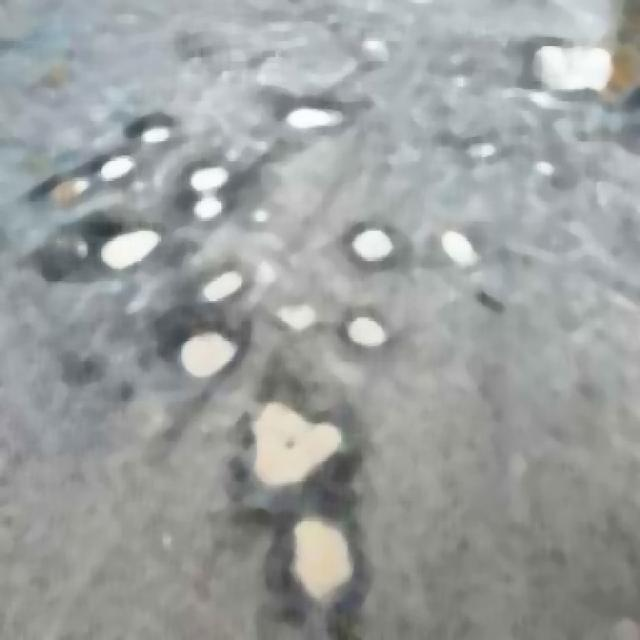Pothole: (245, 370, 344, 495), (524, 33, 638, 119), (287, 512, 359, 610), (66, 220, 179, 278), (168, 310, 232, 385), (425, 214, 484, 284), (279, 102, 355, 142), (347, 297, 388, 366), (351, 220, 400, 274), (136, 106, 179, 159), (94, 148, 134, 178)
